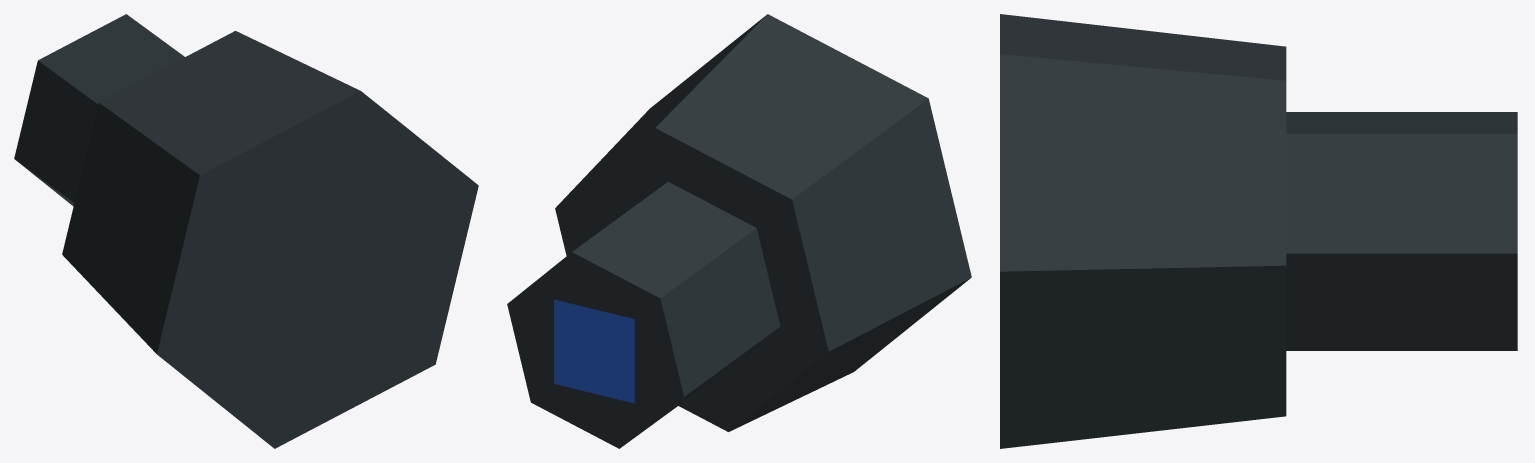
The picture shows the model from 3 angles, left to right: view 1: azimuth 30°, elevation 25°; view 2: azimuth 150°, elevation 25°; view 3: azimuth 270°, elevation 25°; orthographic projection. The views are drawn at different scales.
Visible parts, largest first — view 1: mount; view 2: mount; view 3: mount.
Part boxes in pixels (x1,y1,x2,y2): mount: [14, 14, 478, 448]; mount: [507, 14, 971, 448]; mount: [1000, 14, 1517, 448].
Bounding box in the file's own units: 4.25 × 4.25 × 4.95.
